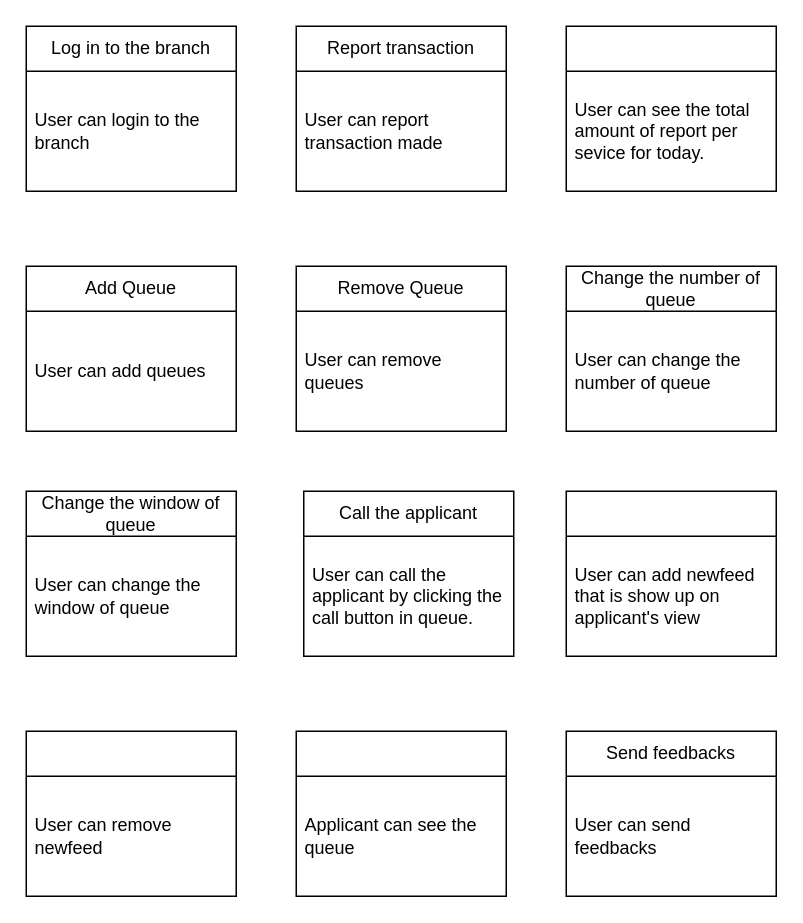
This 803x923 diagram has some shape labels left out. The shapes that lost their labels are listed below. From the top down, each one's box as (x1, y1, x2, y2) in pixels, then its label:
(565, 25, 776, 191): View report
(565, 490, 776, 656): Add Newsfeed
(25, 730, 236, 896): Remove Newsfeed
(295, 730, 506, 896): View applicant's queue
